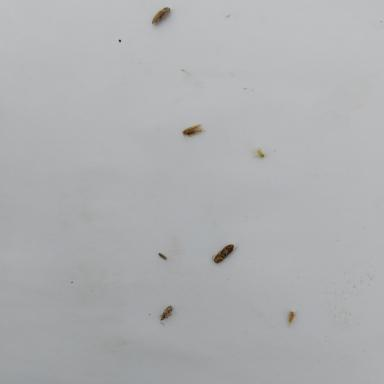pbw: (150, 5, 172, 29)
